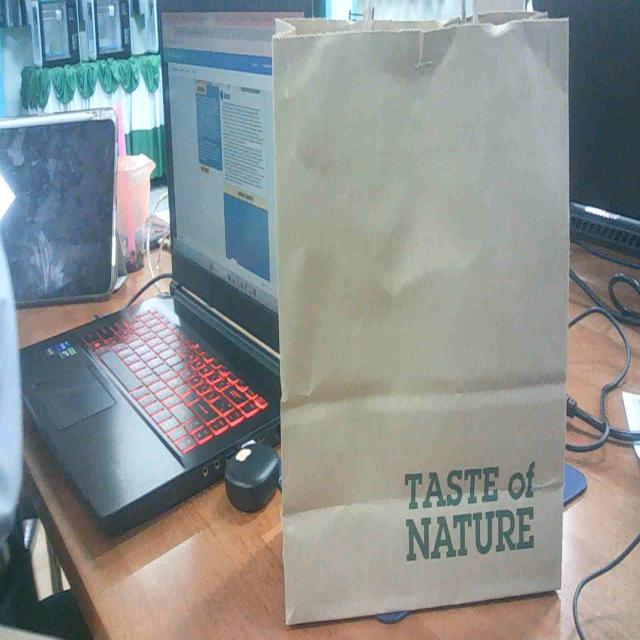bag: (262, 0, 570, 605)
